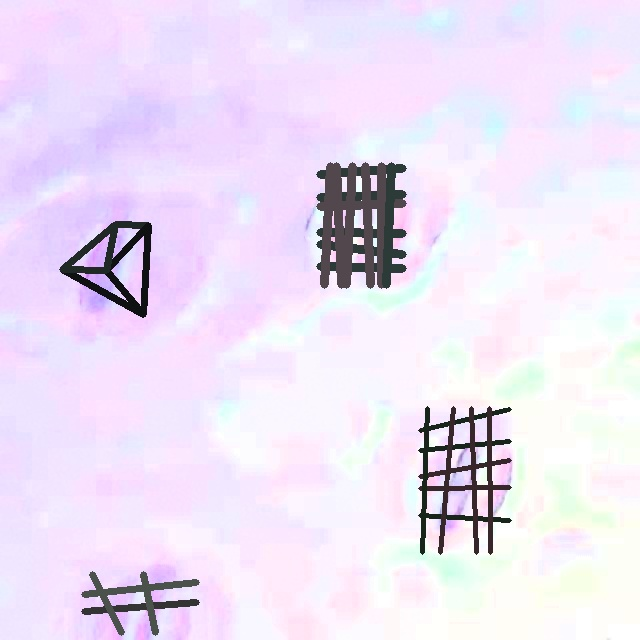open: (418, 406, 511, 554), (316, 162, 406, 287), (60, 222, 151, 317), (81, 571, 199, 634)
